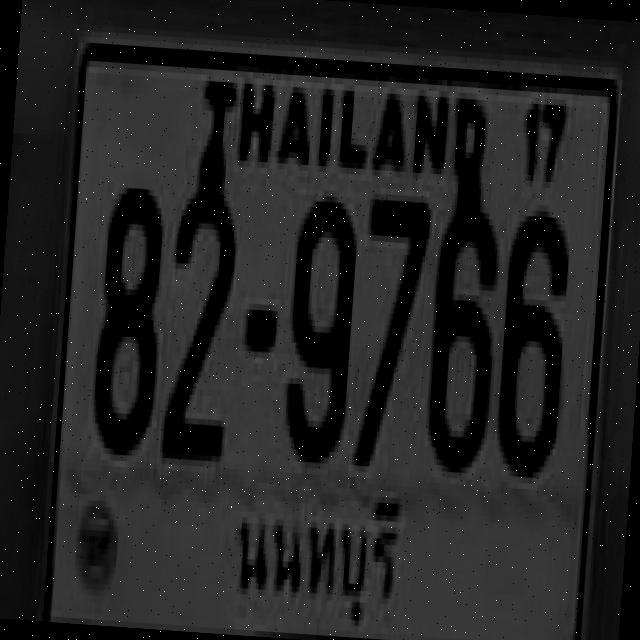2: (158, 176, 239, 458)
6: (420, 192, 500, 468), (492, 203, 572, 473)
7: (352, 193, 428, 463)
8: (88, 180, 165, 450)
9: (280, 188, 357, 458)
Nonthaburi: (220, 472, 417, 634)
